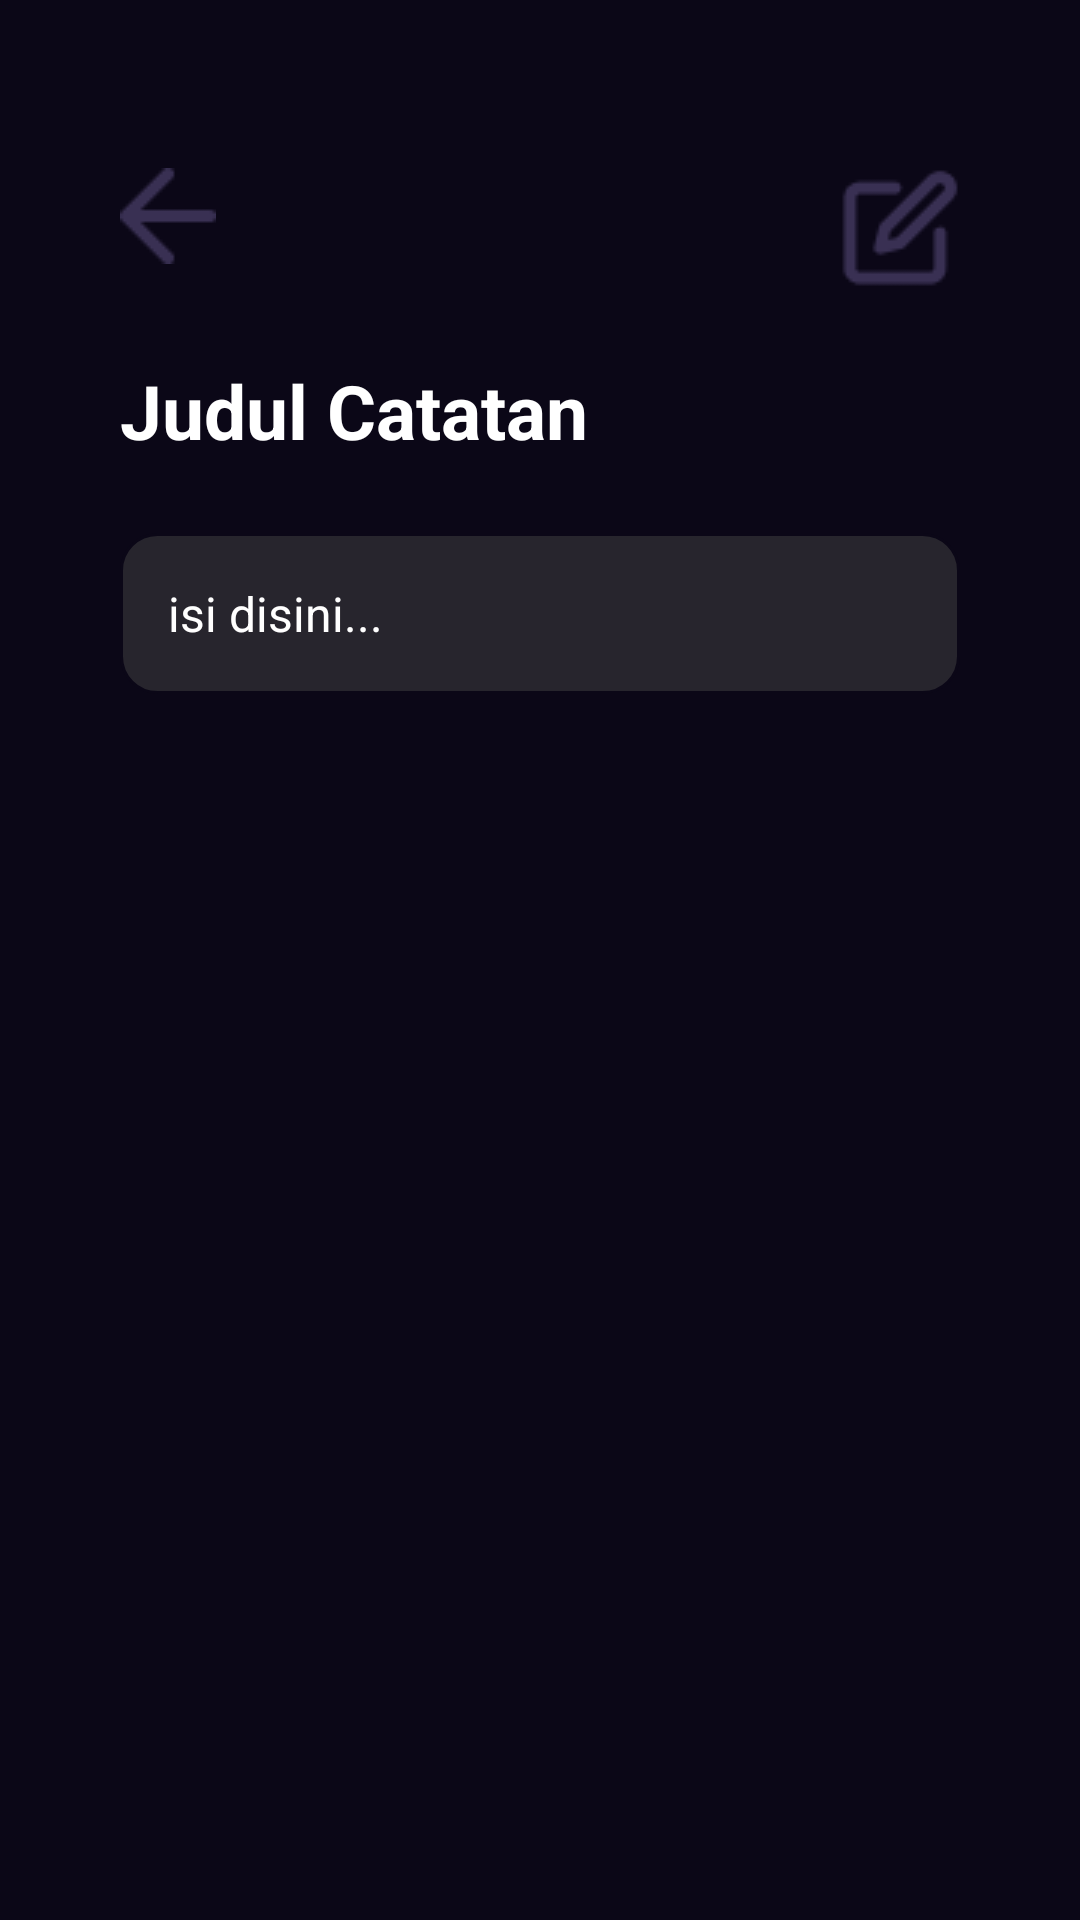

Icon bounding boxes for this 1080w x 1920h phone screenshot, format bbox(x1, y1, x2, y2):
back: bbox(120, 168, 216, 264)
edit: bbox(843, 171, 957, 285)
